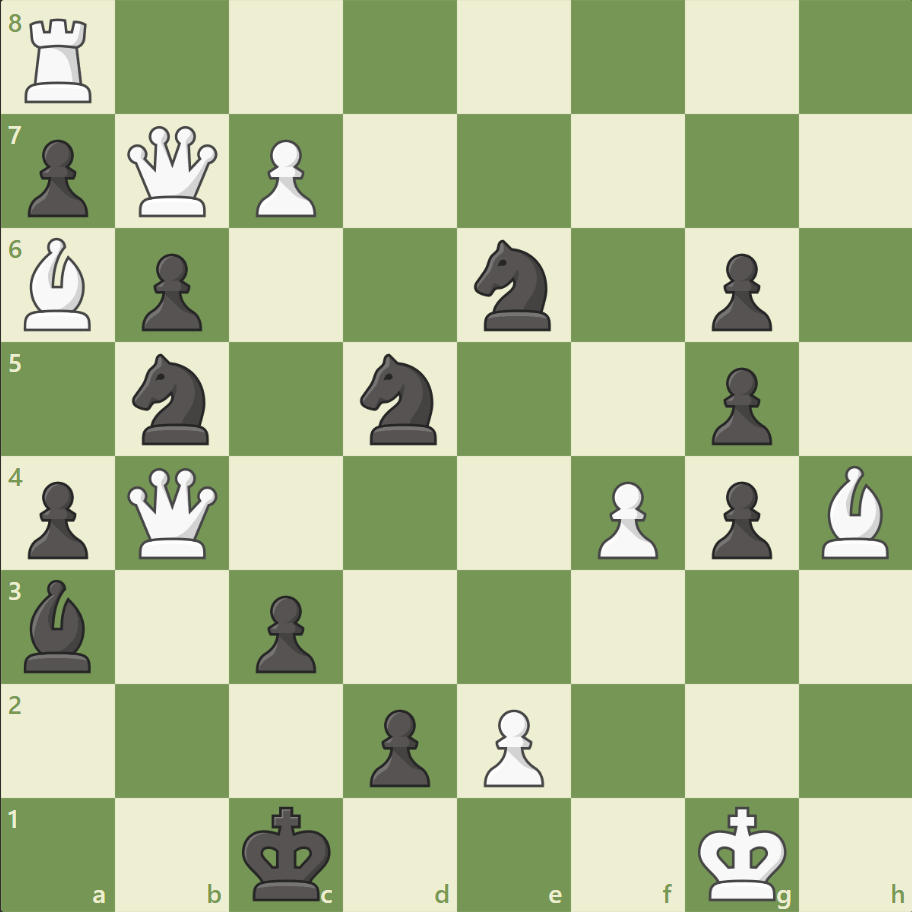B: (17, 233, 101, 336), (812, 460, 896, 563)
K: (692, 798, 792, 906)
P: (247, 132, 322, 223), (474, 700, 549, 791), (588, 473, 662, 564)
Q: (124, 122, 223, 222), (124, 463, 223, 562)
R: (19, 12, 102, 109)
b: (17, 574, 101, 676)
k: (238, 798, 338, 906)
n: (124, 348, 222, 450), (351, 348, 449, 450), (465, 234, 562, 337)
p: (20, 132, 95, 223), (133, 246, 208, 337), (701, 246, 776, 337), (701, 359, 776, 450), (20, 473, 95, 564), (701, 473, 776, 564), (247, 586, 322, 677), (361, 700, 435, 791)
